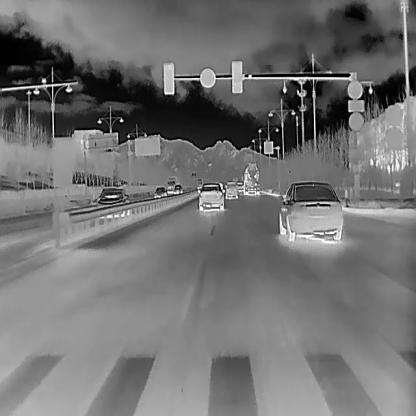car: (278, 180, 342, 242), (197, 181, 224, 211), (96, 186, 129, 210), (224, 180, 238, 198), (153, 186, 168, 198), (235, 178, 244, 192), (172, 183, 182, 193)
truck: (244, 161, 260, 195), (166, 174, 180, 192), (196, 176, 204, 188)
